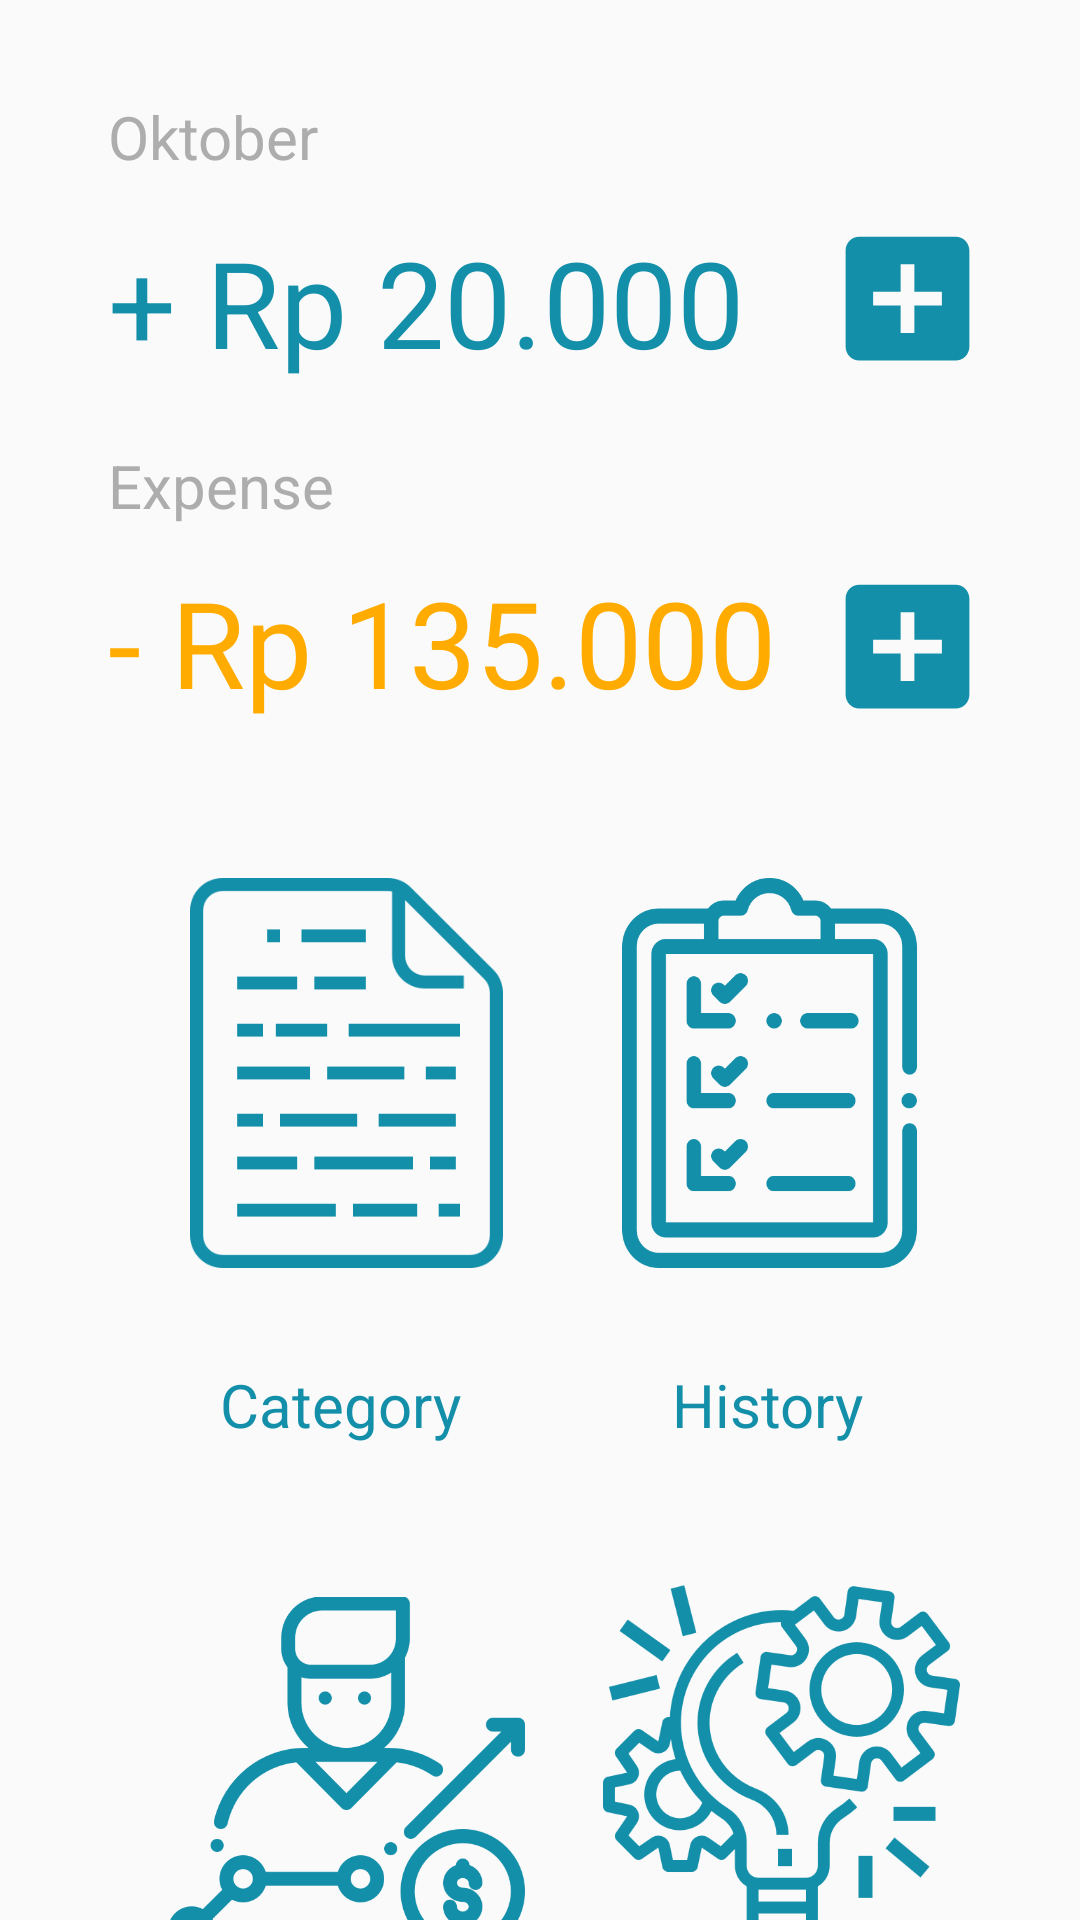

Screen size 1080×1920. Icon name, then its center in pixels as (x,y):
add box: (907,298), (907,646)
